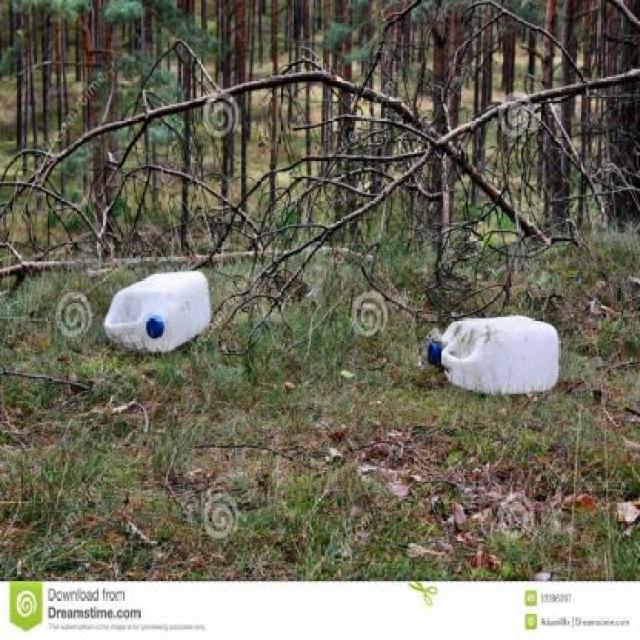garbage: (409, 311, 610, 434), (109, 260, 210, 374)
